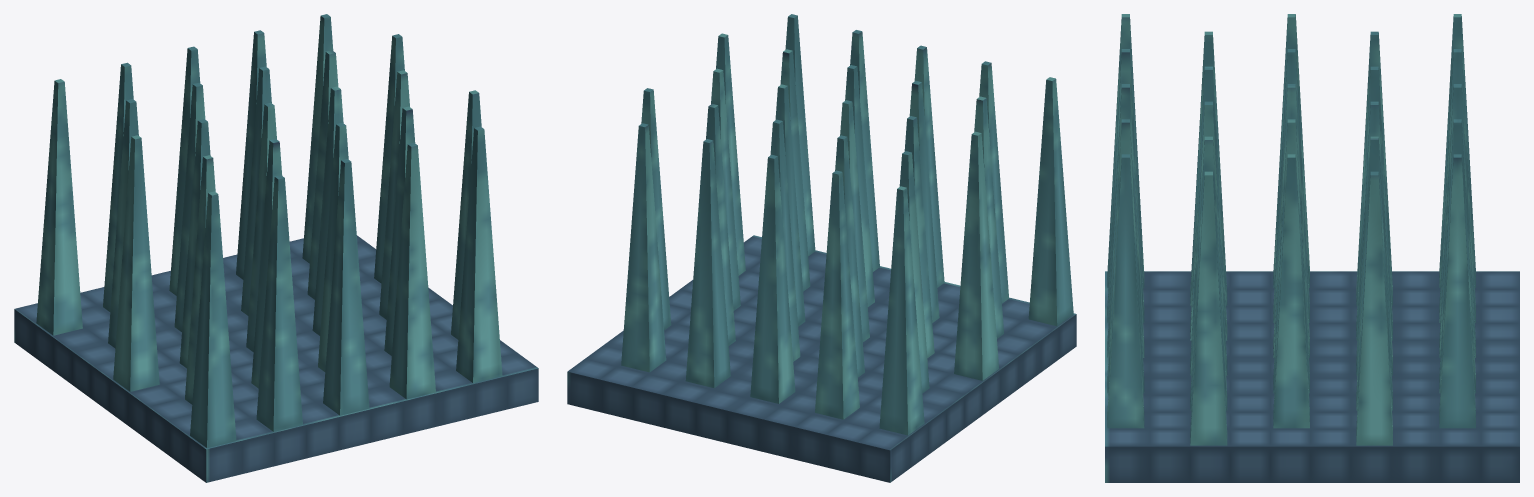
File: Metal_Spikes.obj
3 renders of one model, left to right at view 1: azimuth 30°, elevation 25°; view 2: azimuth 150°, elevation 25°; view 3: azimuth 270°, elevation 25°, orthographic. The views are drawn at different scales.
Visible parts, largest first — view 1: Cube.002; view 2: Cube.002; view 3: Cube.002.
Boxes of the visible parts, <box> form: Cube.002: <box>14,14,538,482</box>; Cube.002: <box>567,14,1076,482</box>; Cube.002: <box>1105,14,1519,482</box>.
Size of the model in its own units: 0.5 by 0.4 by 0.5.
1 material, 1 textured.
